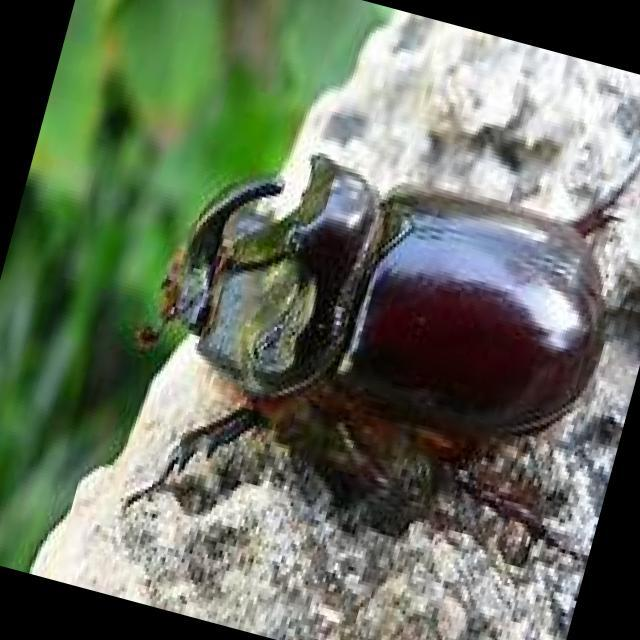Rhino-beetle: (160, 140, 640, 490)
